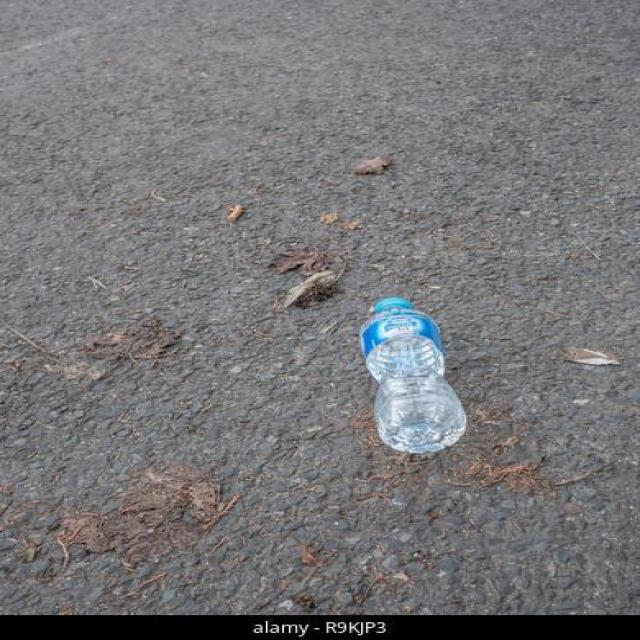bottle: (355, 292, 473, 458)
